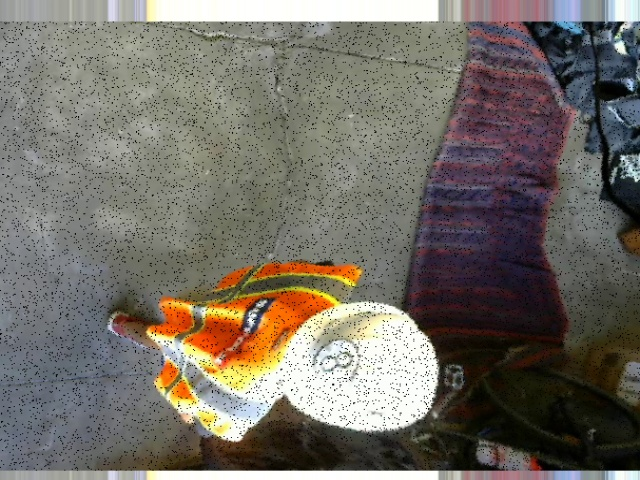eight: (305, 335, 364, 388)
